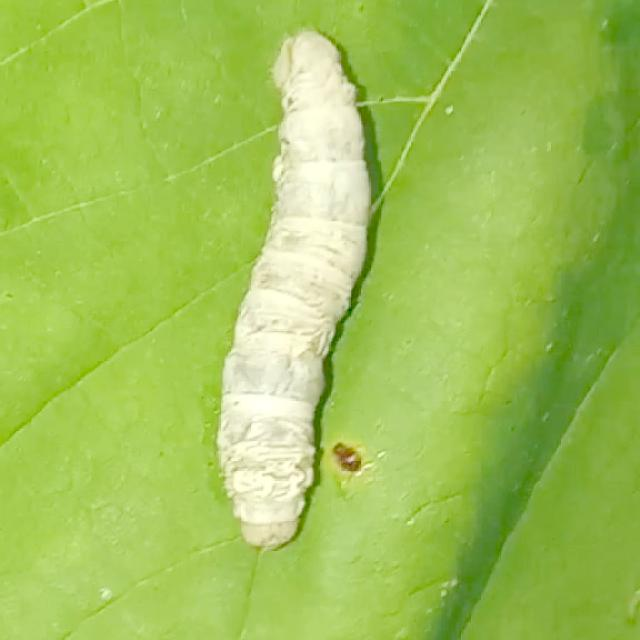Grasserie: (192, 18, 398, 563)
